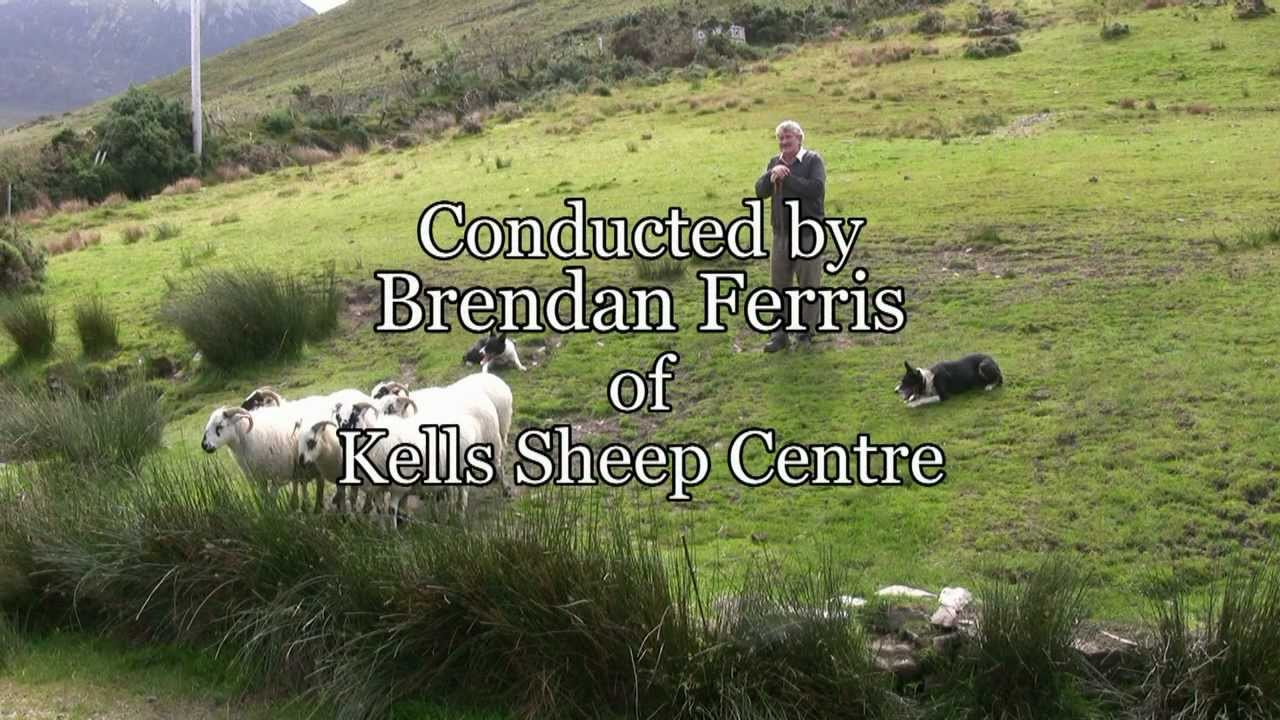sheep: (335, 401, 488, 522), (202, 395, 341, 514), (289, 418, 375, 523)
